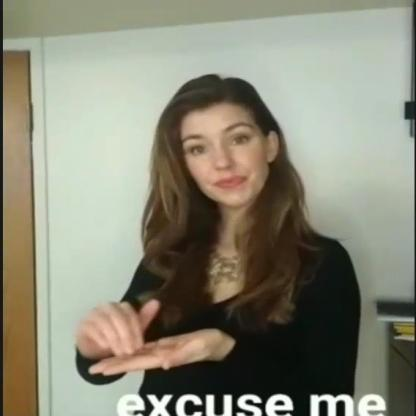ExcuseMe: (67, 290, 235, 382)
